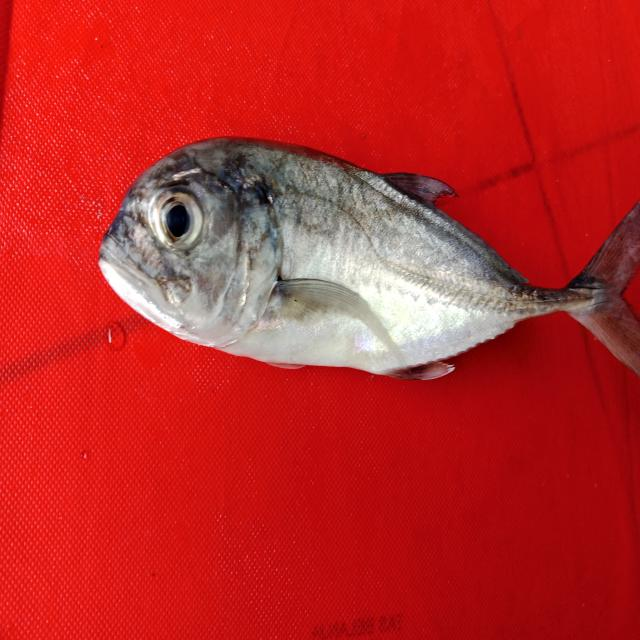ikan: (97, 134, 639, 383)
